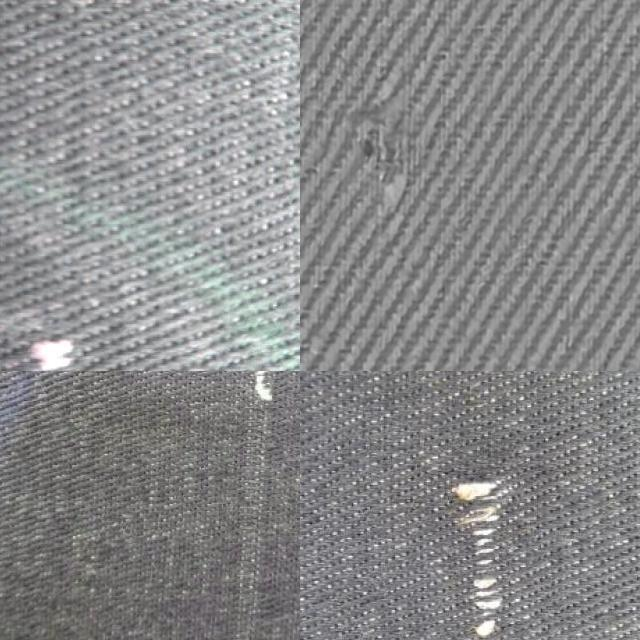Thread_other: (336, 371, 566, 640), (170, 371, 300, 640), (0, 264, 135, 371)
seam: (300, 74, 439, 245)
